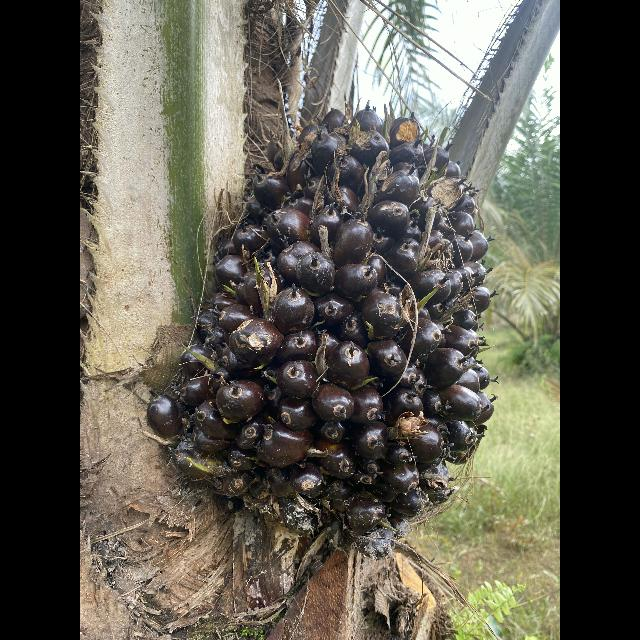Unripe: (155, 100, 491, 540)
